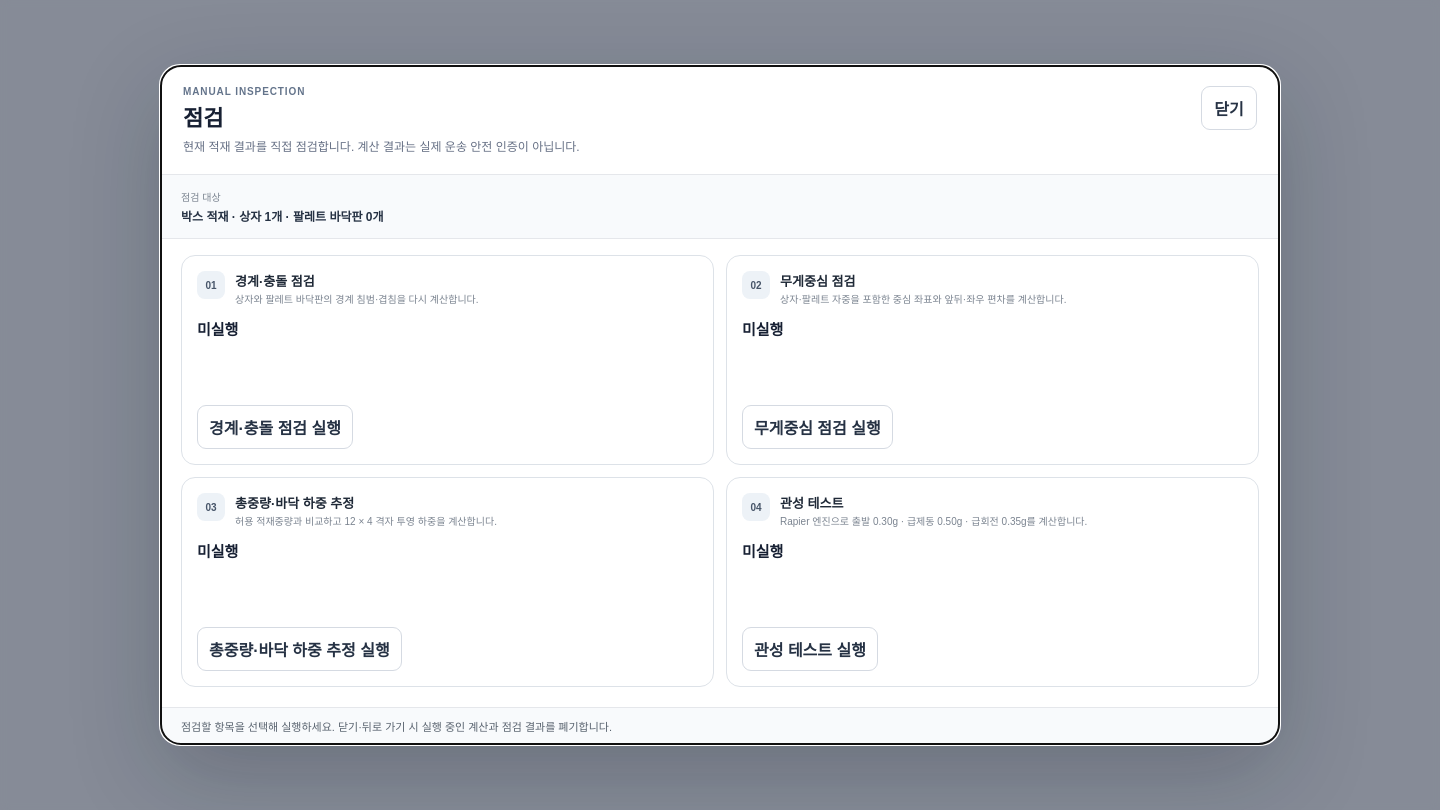
Test: manual inspection lifecycle › shows completion, error and retry without modifying the target
Click the button "관성 테스트 실행" at (810, 649), box [742,627,878,671]
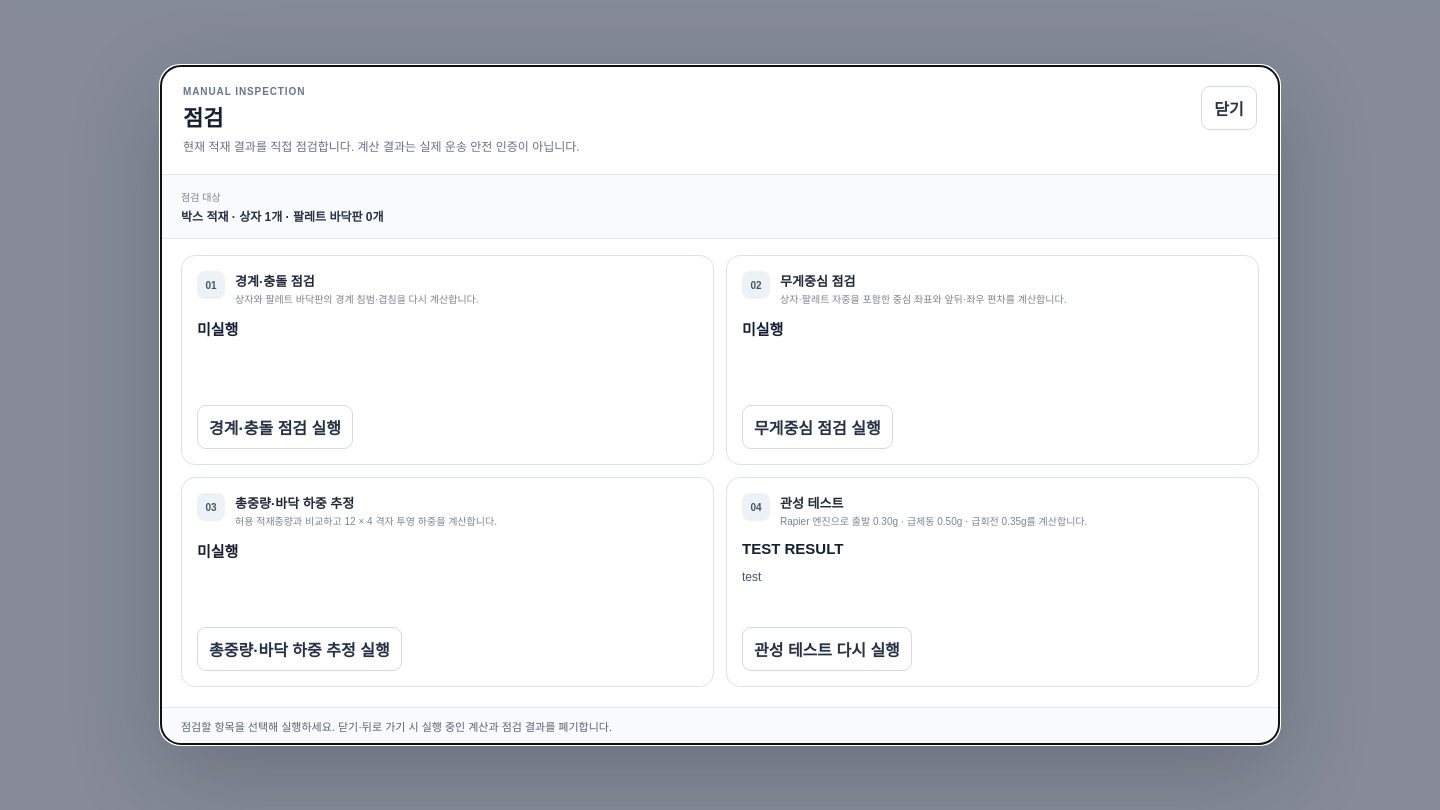
Now the text "TEST RESULT" is shown, box [742,540,843,556]
Click the button "관성 테스트 다시 실행" at (827, 649), box [742,627,912,671]
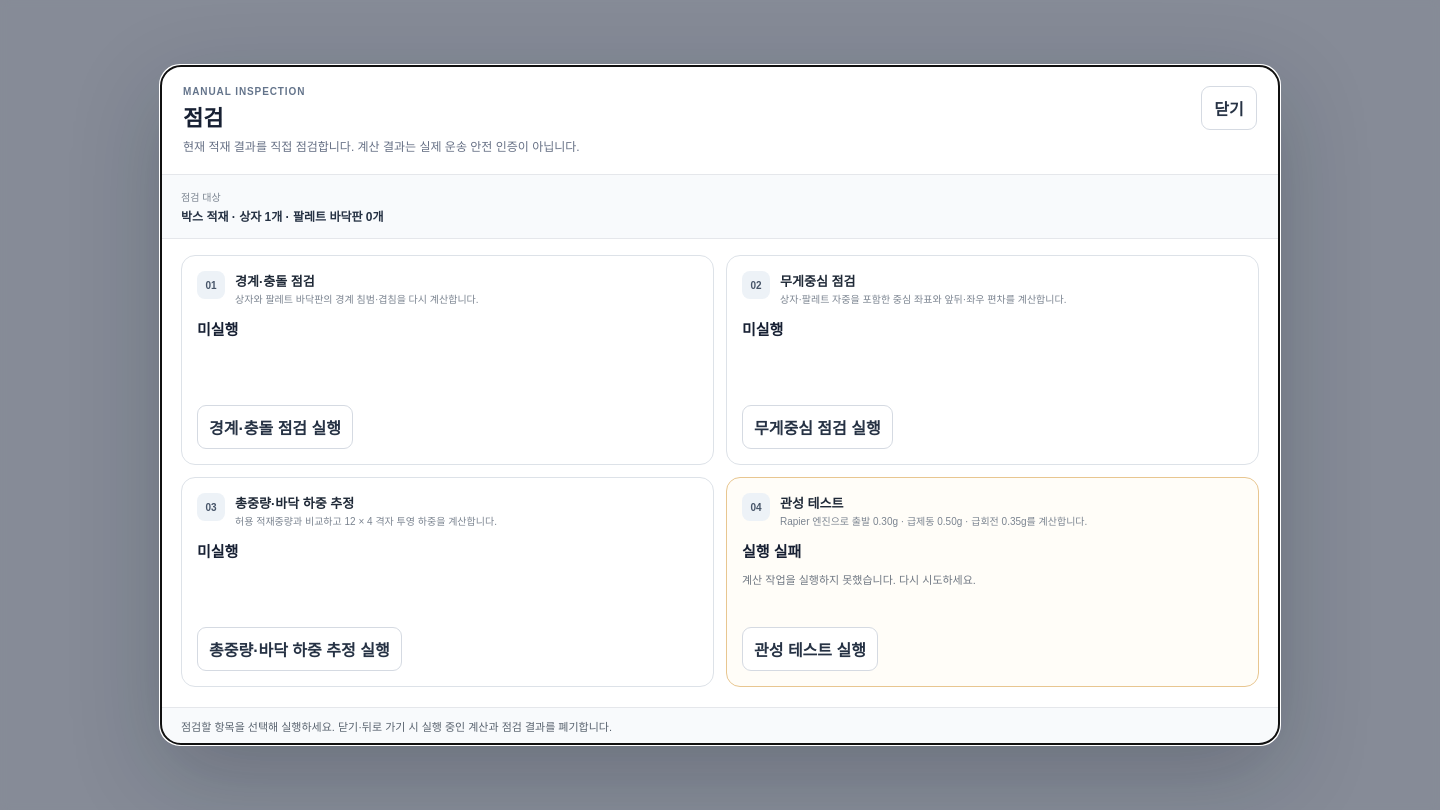
Expected: the button "관성 테스트 실행" is enabled, [742,627,878,671]
Now the text "실행 실패" is shown, box [742,542,801,560]
